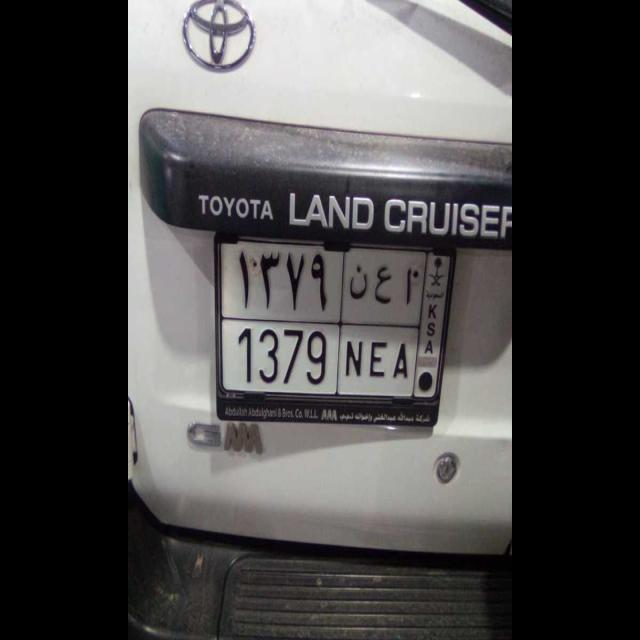license_plate: (215, 317, 415, 405)
